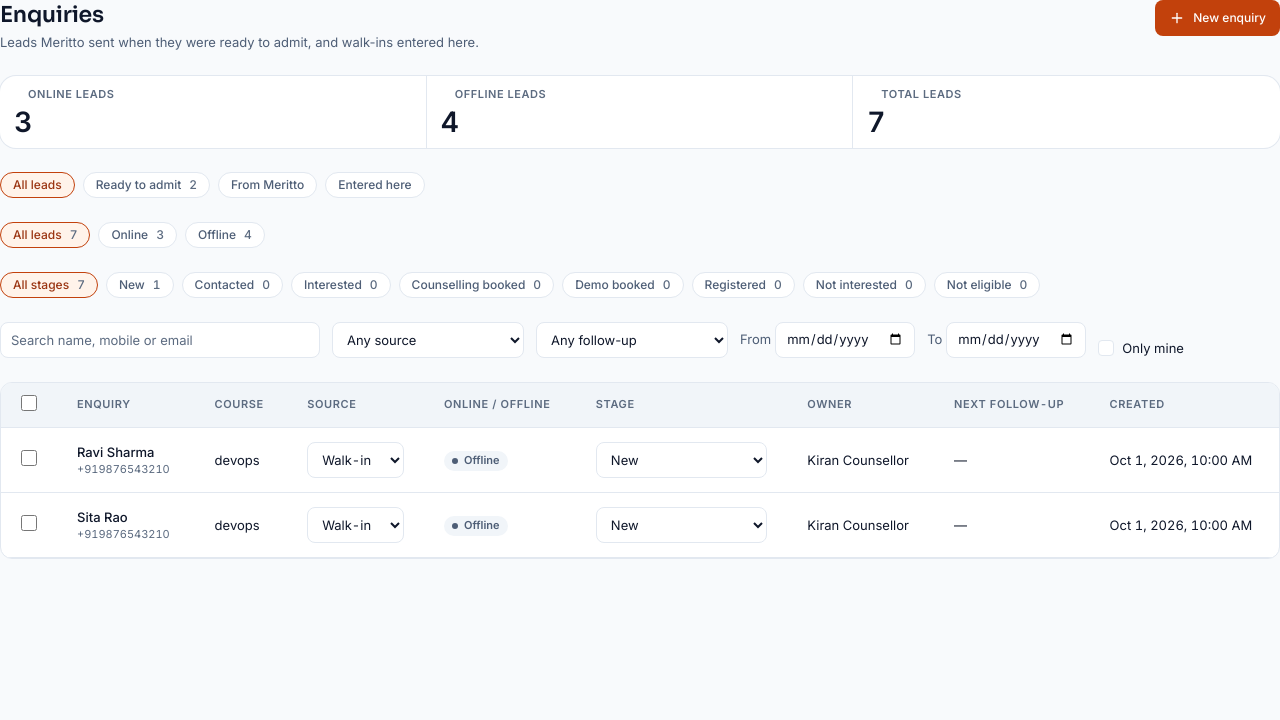
Scenario: EnquiriesPage › hands the ticked enquiries to a colleague and says what happened
This screenshot has width=1280, height=720.
Click the checkbox named "Select Ravi Sharma". click: click(29, 458)
box: [21, 450, 37, 466]
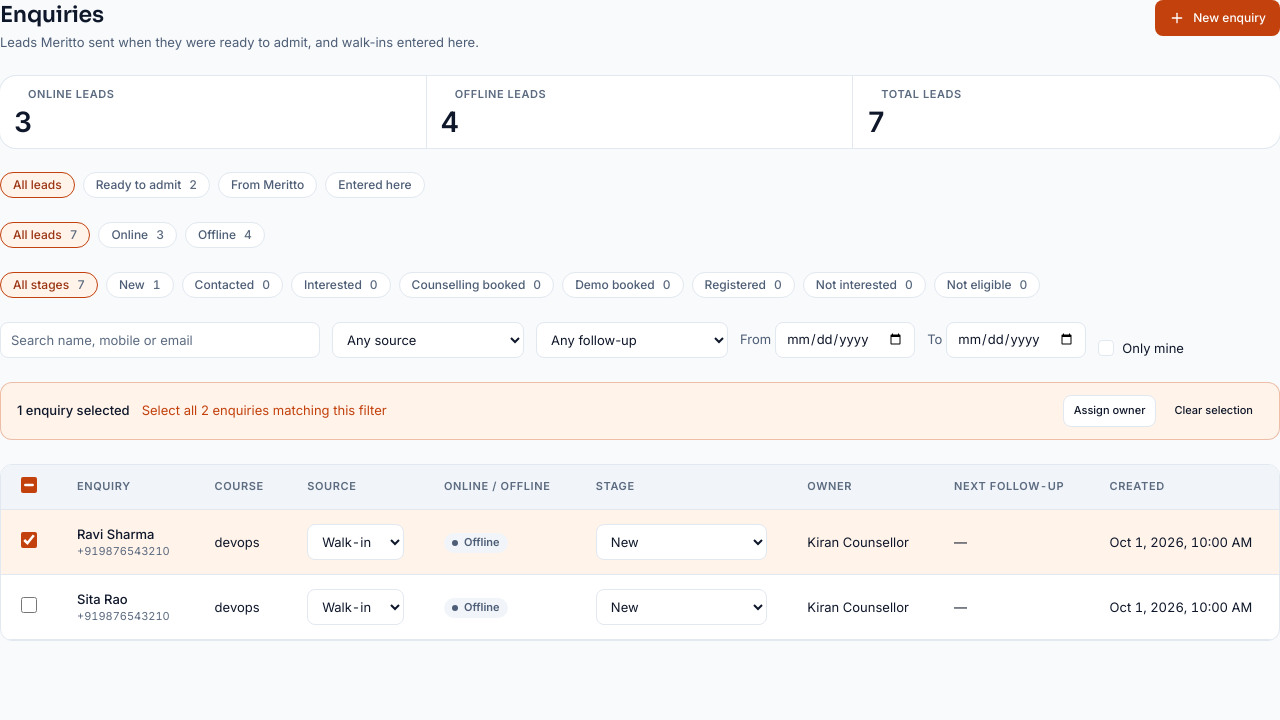
Click the checkbox named "Select Sita Rao". click: click(29, 605)
box: [21, 597, 37, 613]
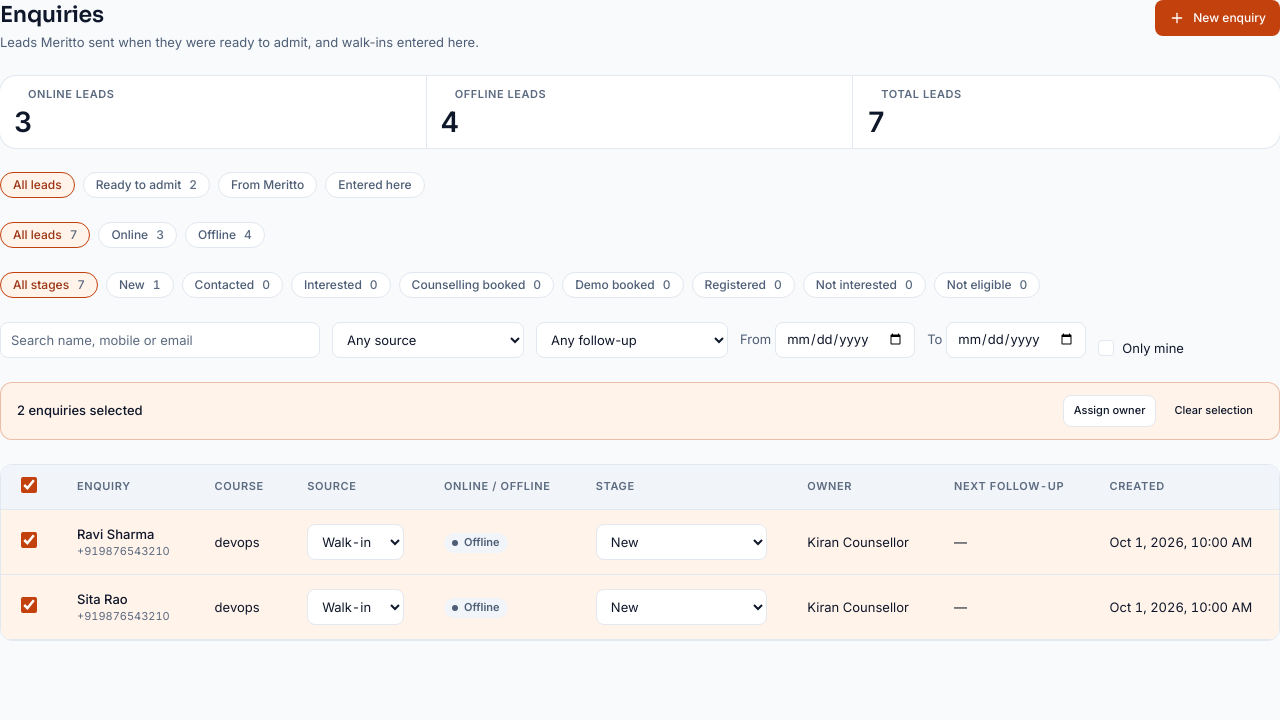
Click the button "Assign owner". click: click(1110, 411)
box: [1063, 395, 1156, 427]
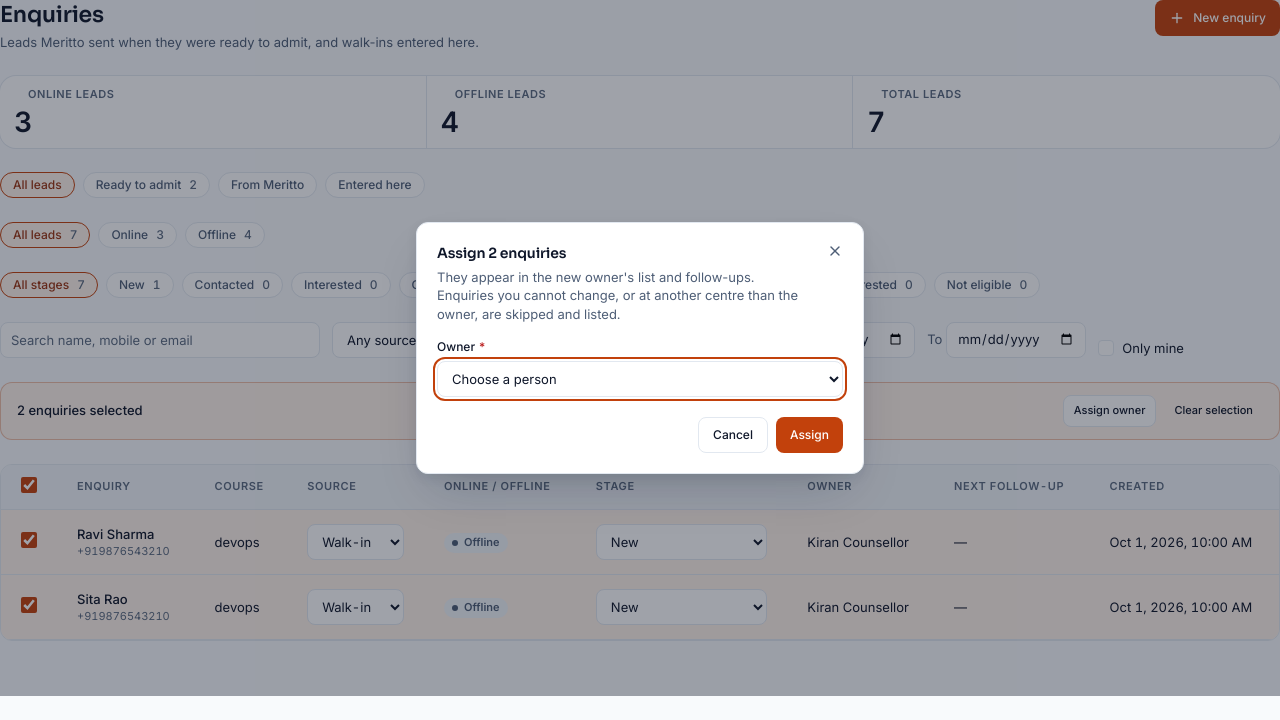
Select "Neha Gupta · Counsellor · JAI" in the dropdown named "Neha Gupta · Counsellor · JAI". click: (640, 379)
box: [437, 361, 843, 397]
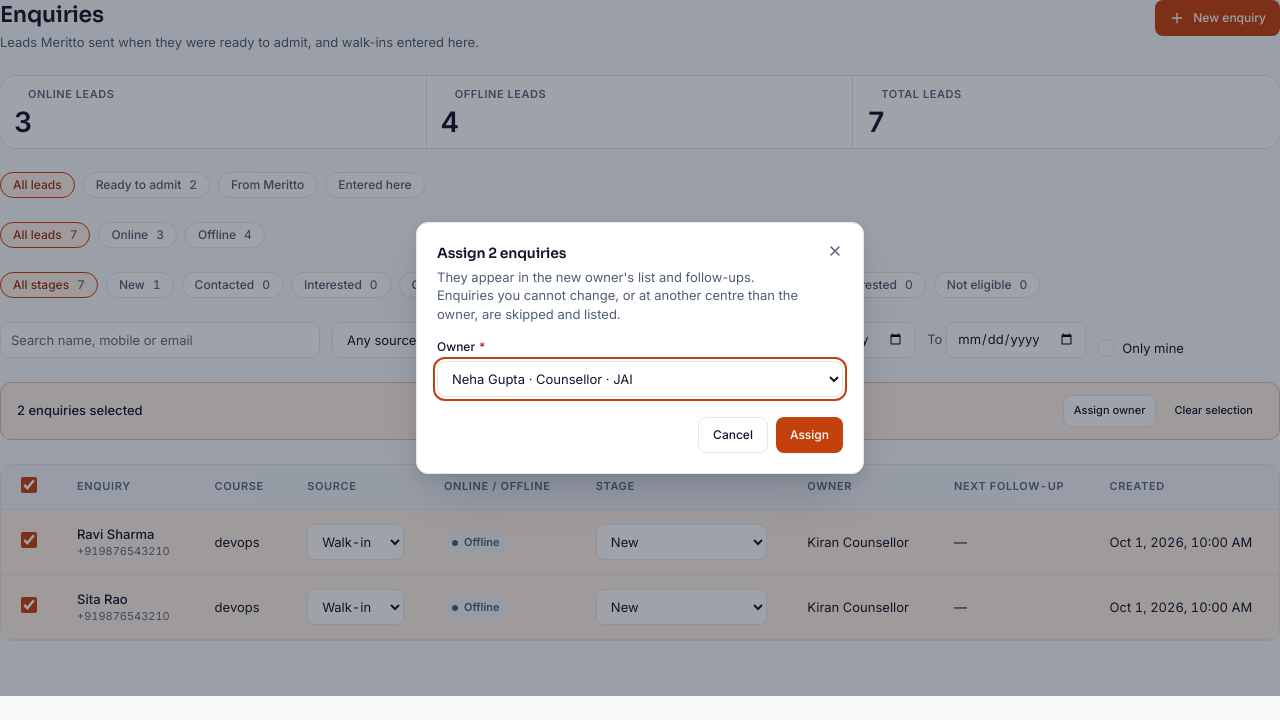
Click the button "Assign". click: click(809, 435)
box: [776, 417, 843, 453]
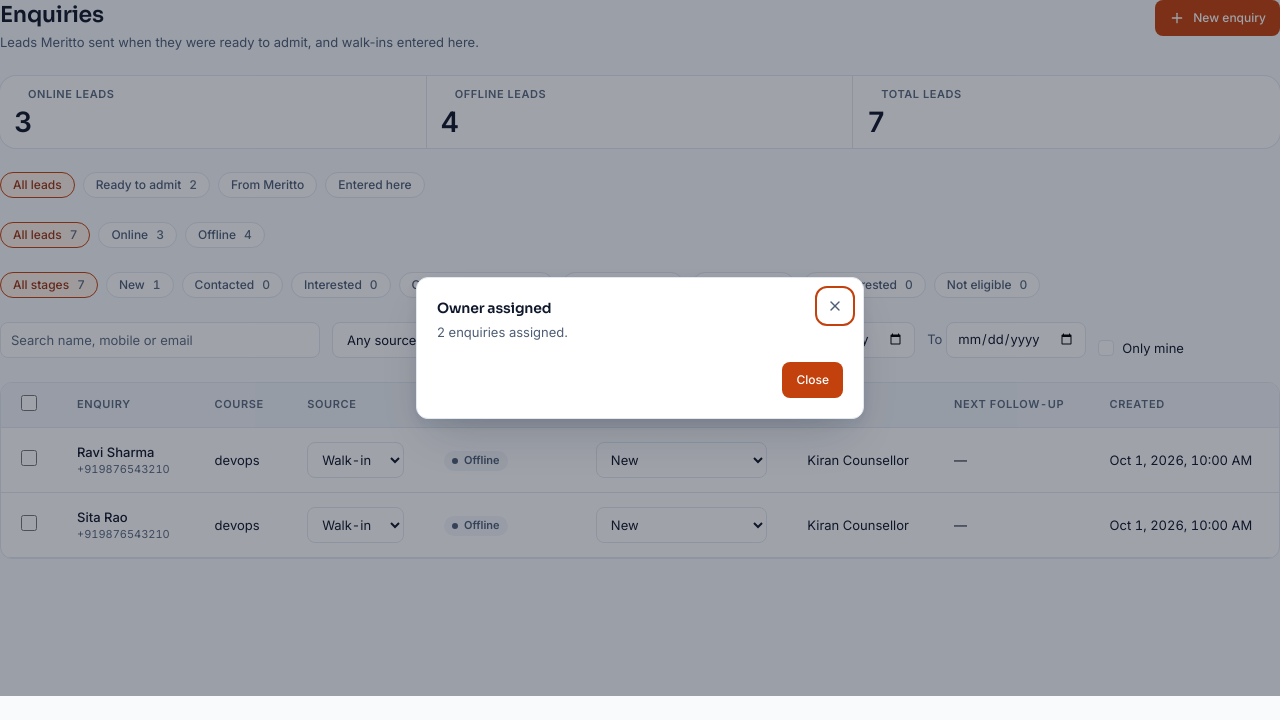
Now the dialog "Owner assigned" shows "2 enquiries assigned.", box [437, 324, 568, 340]
